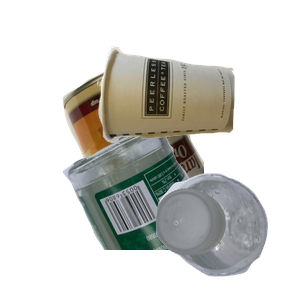glass: (60, 120, 300, 300)
metal: (60, 58, 300, 238)
plastic: (153, 170, 300, 300)
trash: (95, 44, 300, 180)
